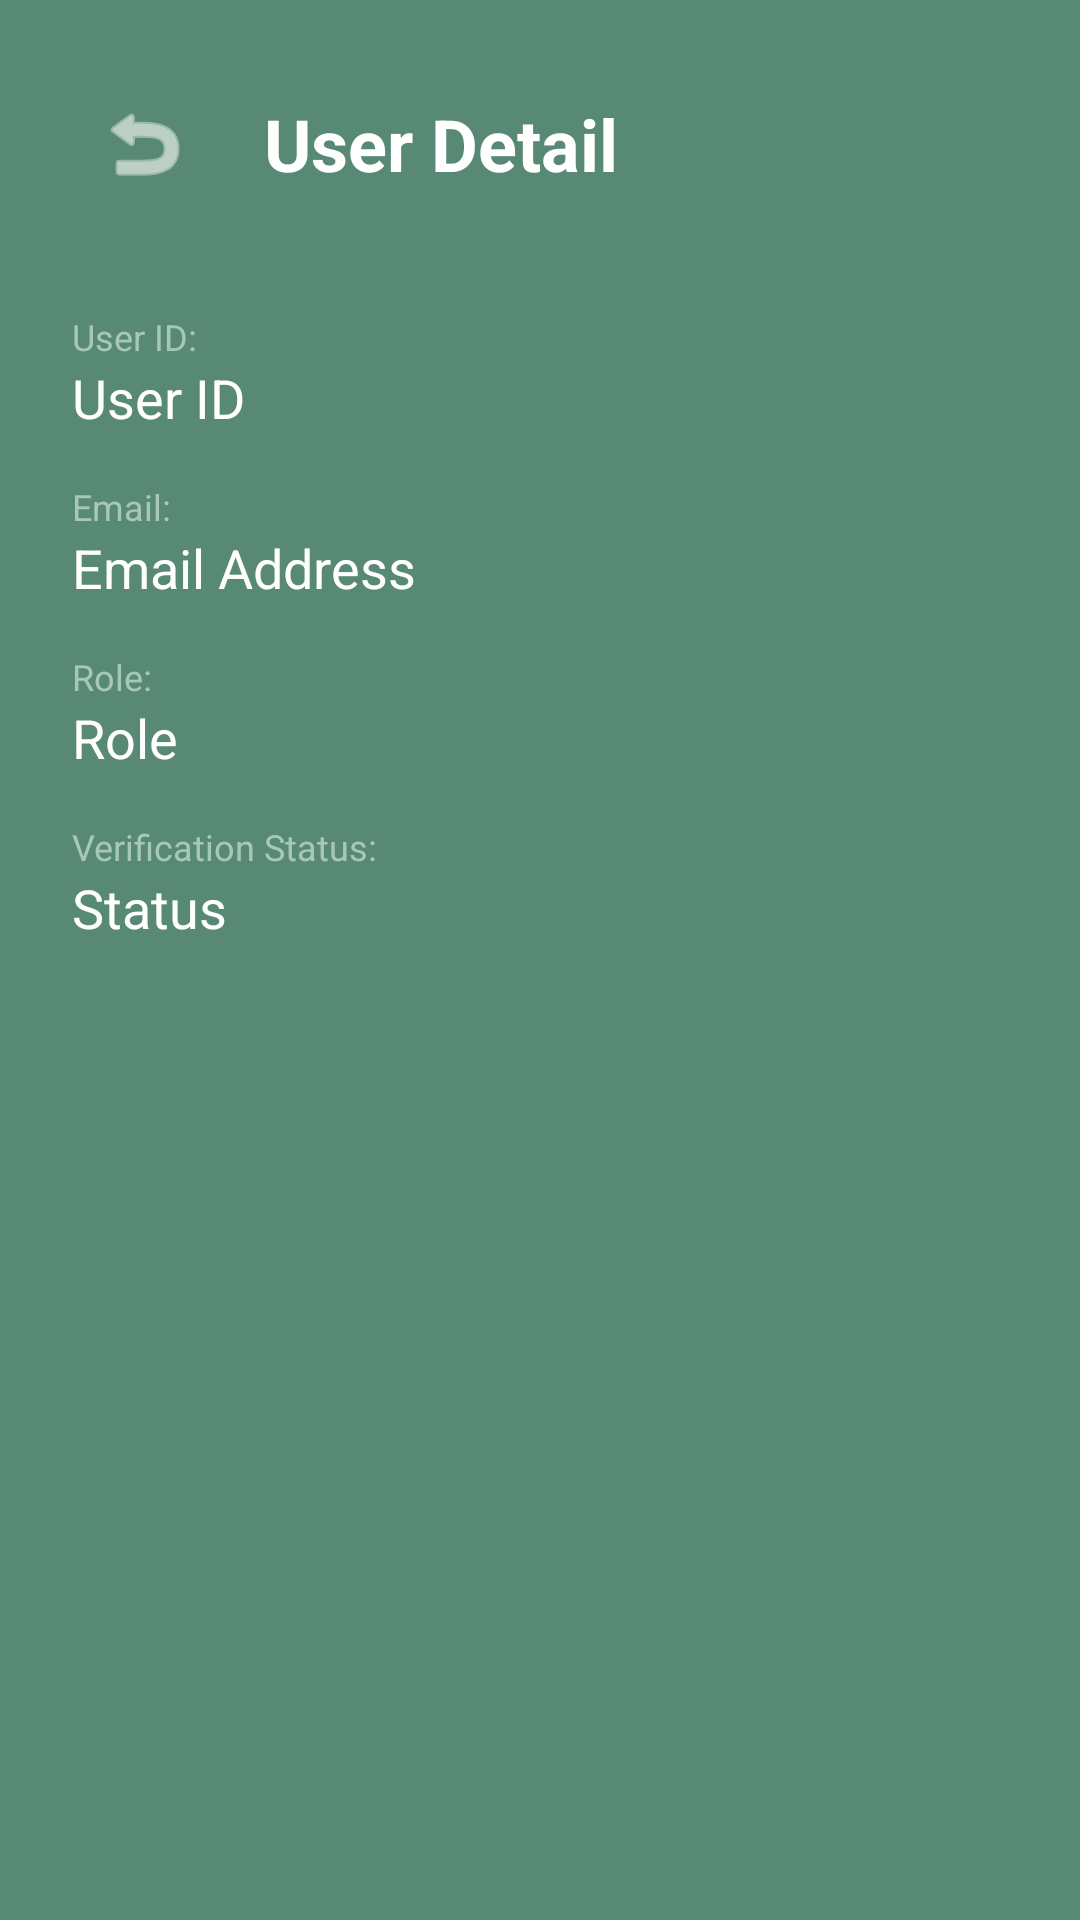

Point at icon controls on the screen. Image size 1080w x 1920h, points as [x,y].
Back: [145,144]
